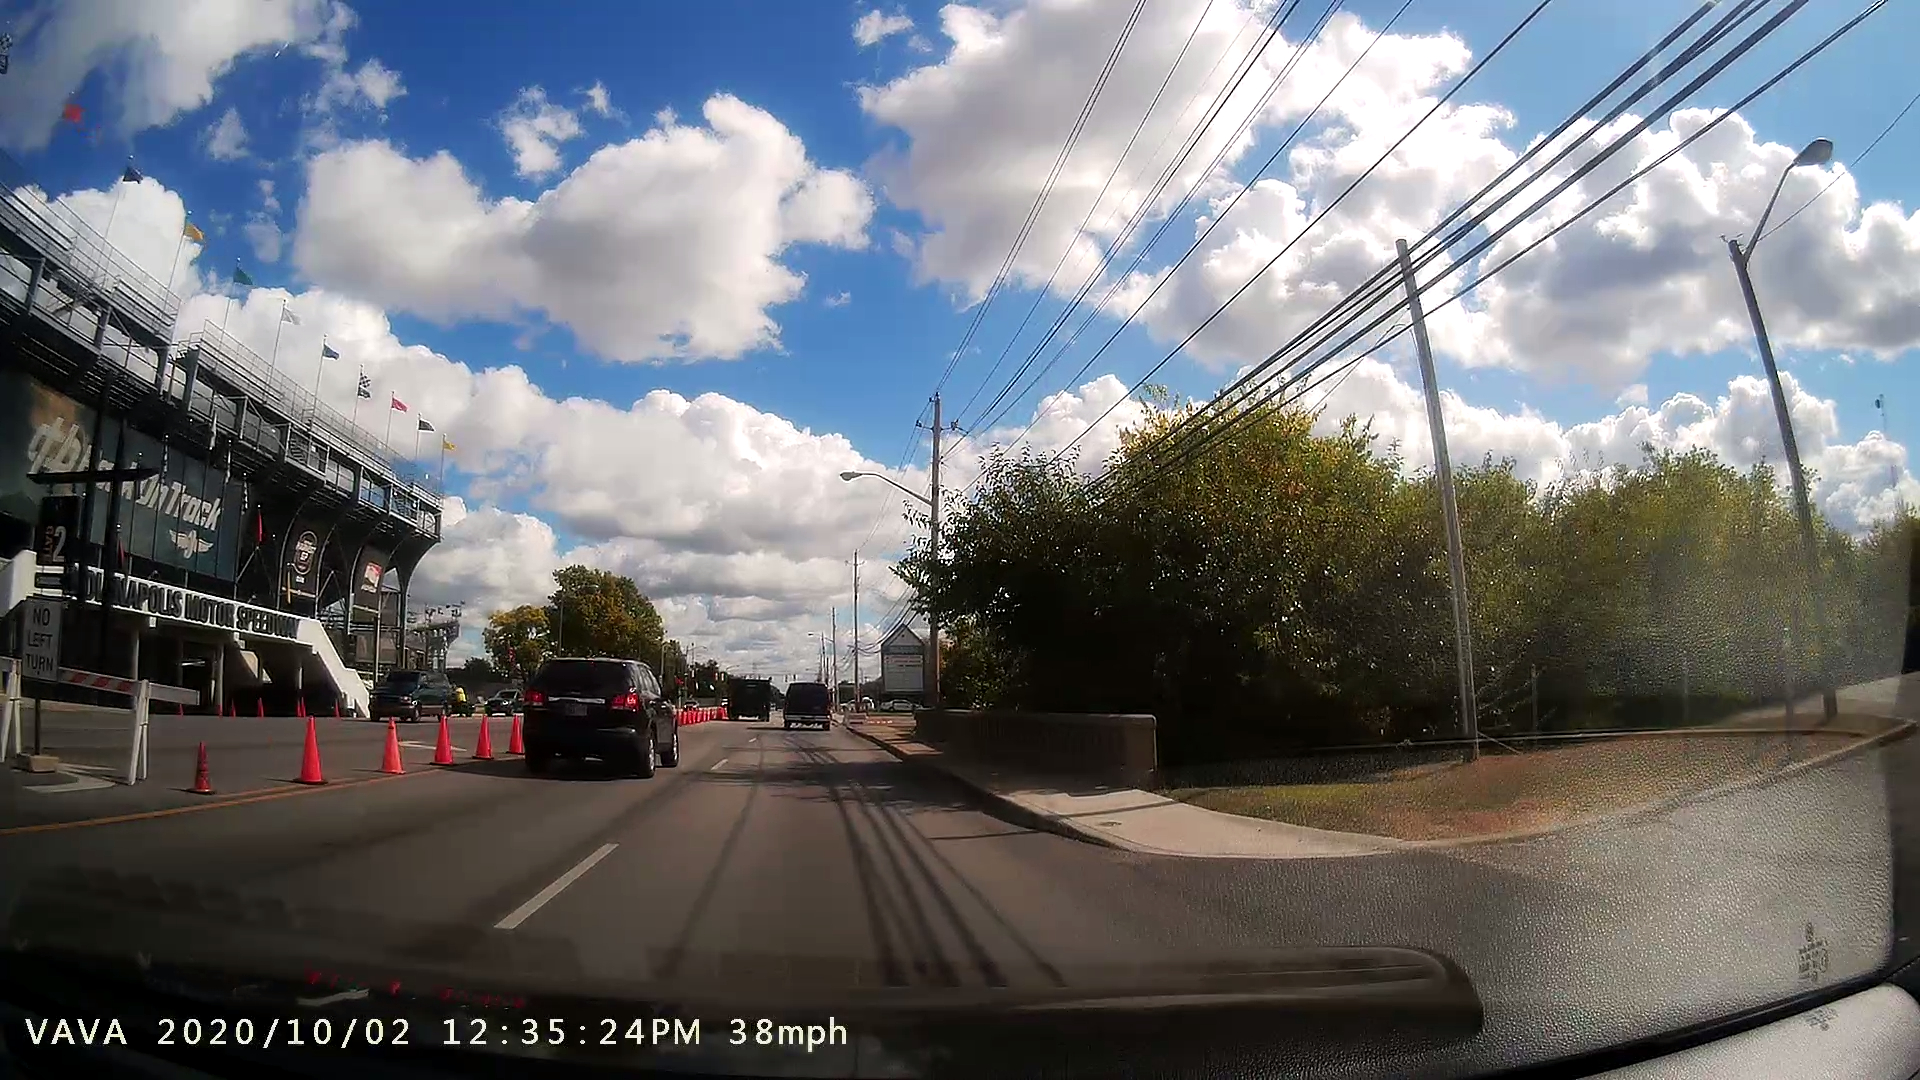const_cone: (269, 712, 342, 793), (171, 731, 235, 799), (367, 708, 411, 786), (423, 696, 465, 773), (469, 708, 492, 771)
